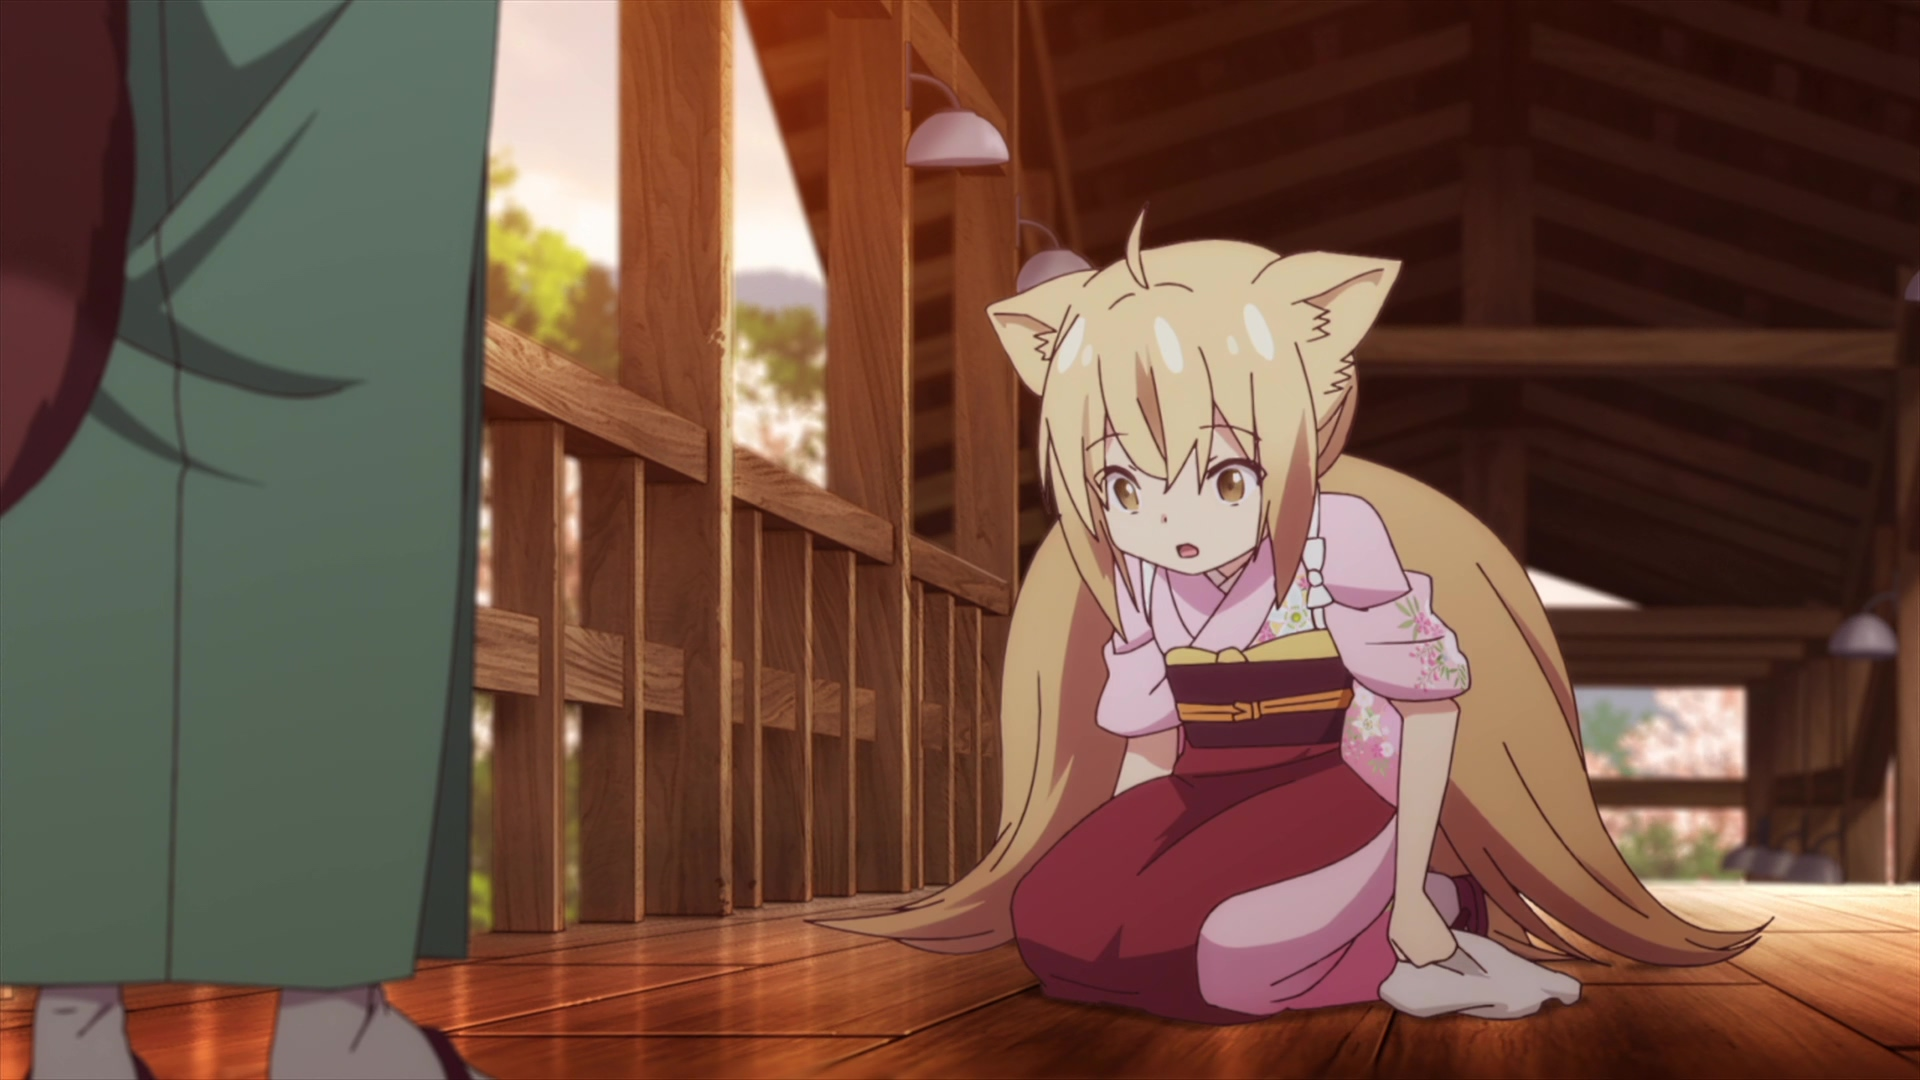不计算: (1, 1, 501, 1080)
柚: (803, 211, 1778, 1019)
